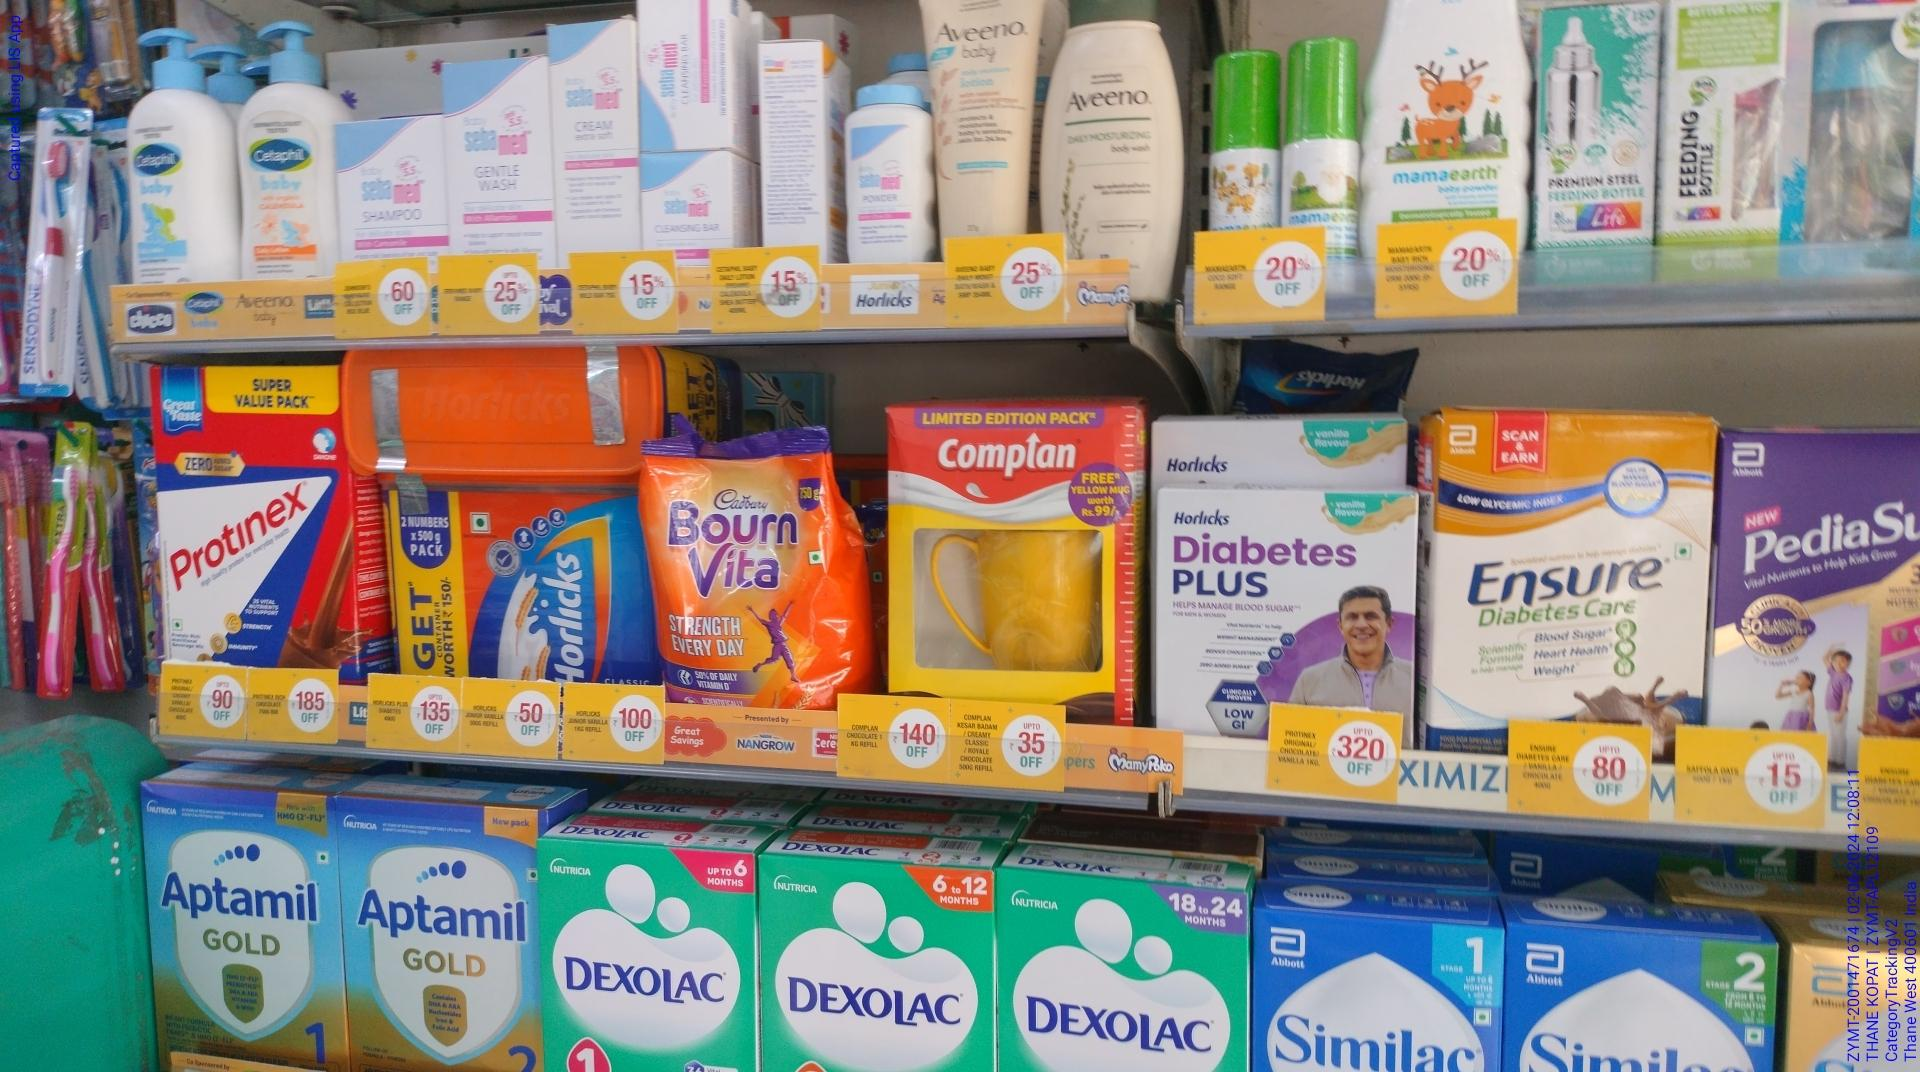HORLICK_MALT_1_KG_CONTAINER: (382, 477, 655, 700)
PEDIASURE_CHOCOLATE_500_G_PACK: (1720, 436, 1920, 773)
